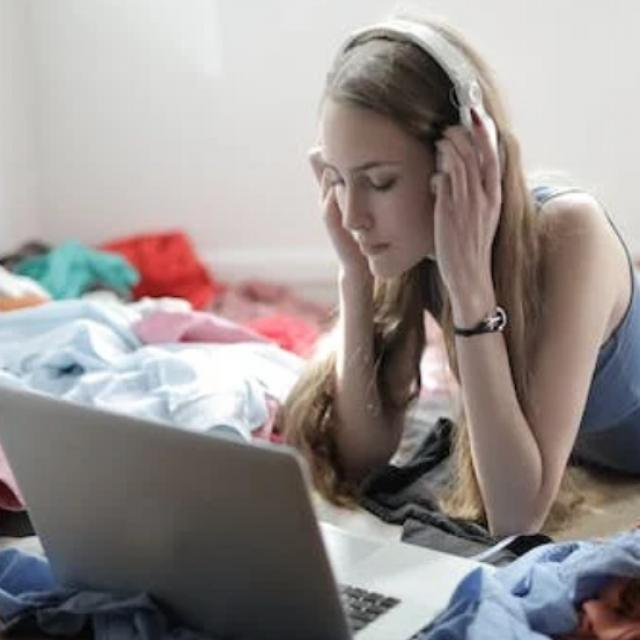Watch: (446, 308, 509, 341)
